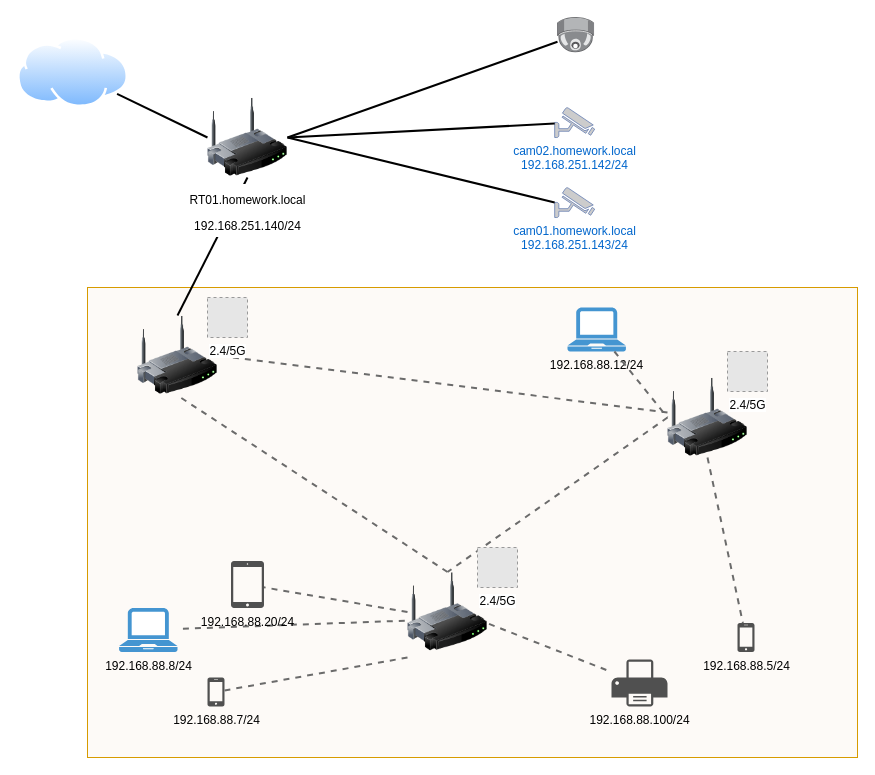
Image size: 875x775. Some labels were removed from this diagram. Grey dashed boxes stand in for pictures. The centre of each missing label's shape, as x and y in pixels:
cam01.homework.local 192.168.251.141/24: pixel 575 34
ISP: pixel 72 72
RT02.homework.local (Mesh) 192.168.88.2/24: pixel 177 355
RT03.homework.local (Mesh) 192.168.88.3/24: pixel 447 612
RT04.homework.local (Mesh) 192.168.88.4/24: pixel 707 417
